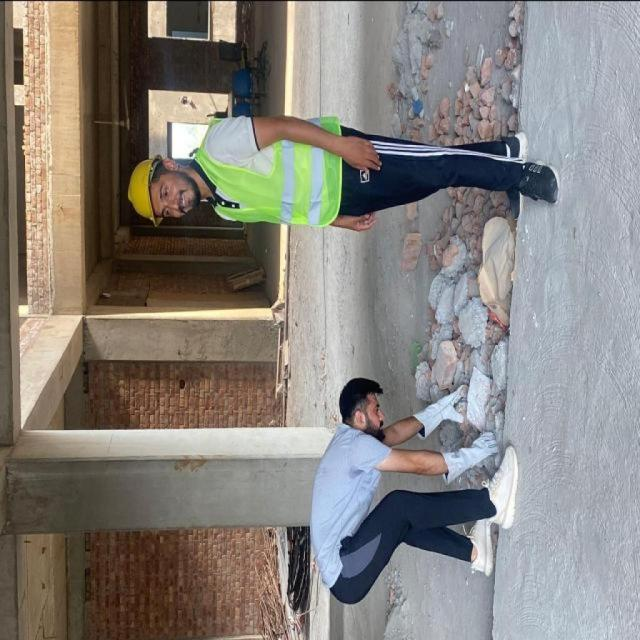Gloves-Detection: (406, 384, 464, 432), (422, 445, 496, 477)
